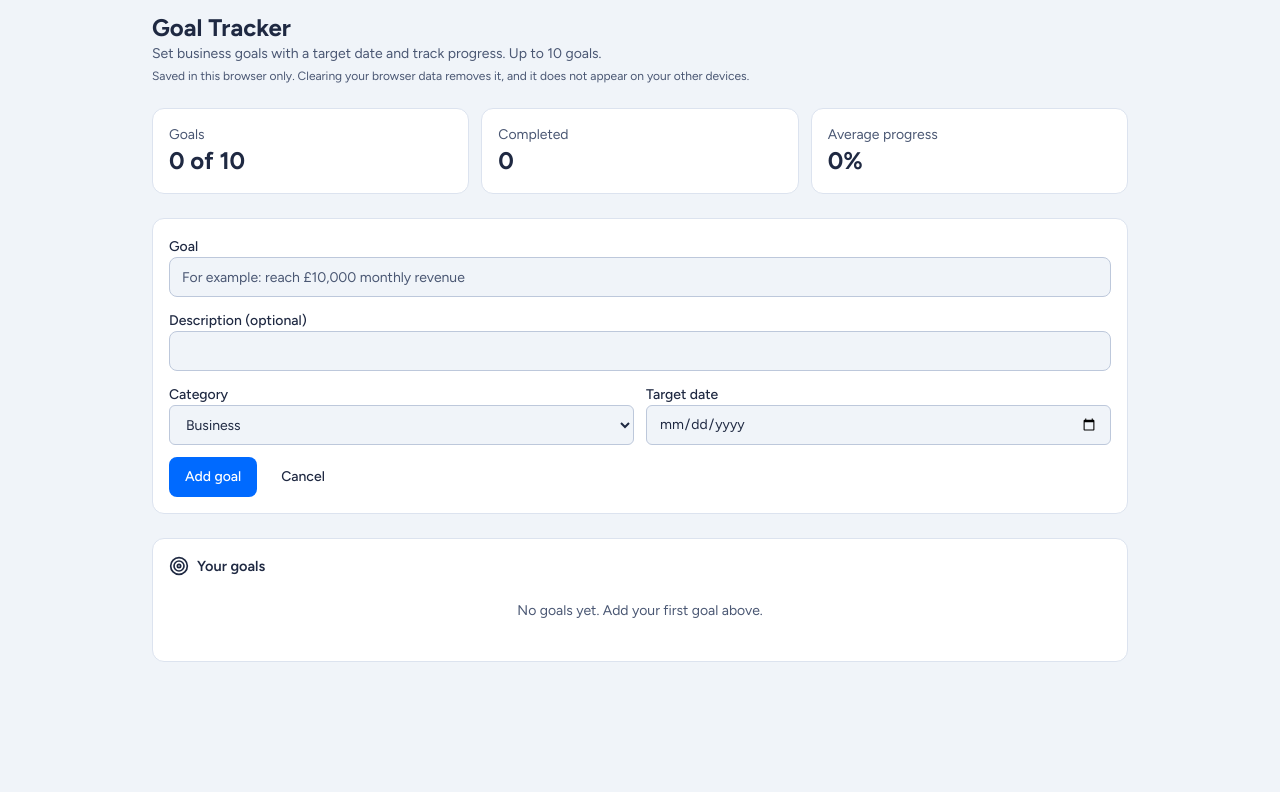
signed out: prompts at the moment of value, never a wall › Goal Tracker: no prompt before use; after the first real edit a dismissible "keep on all your devices" card
Earlier steps of the test are not shown.
Later steps or results of the test are not shown.
Type "Open a shop" into the field labelled "Goal" at (640, 277), box [169, 257, 1111, 297]
Type "2027-03-01" into the date field labelled "Target date" at (878, 425), box [646, 405, 1111, 445]
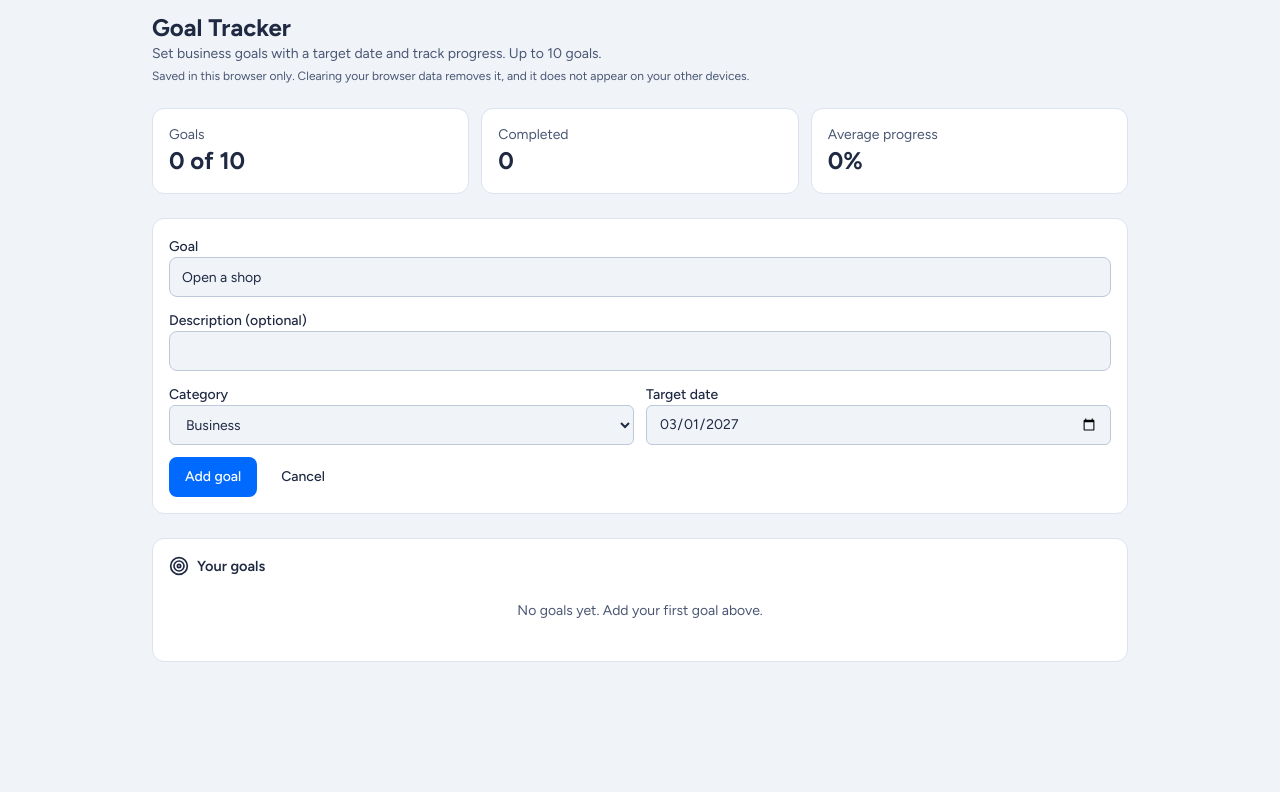
Submit the form named "Add a goal", box [152, 218, 1128, 514]
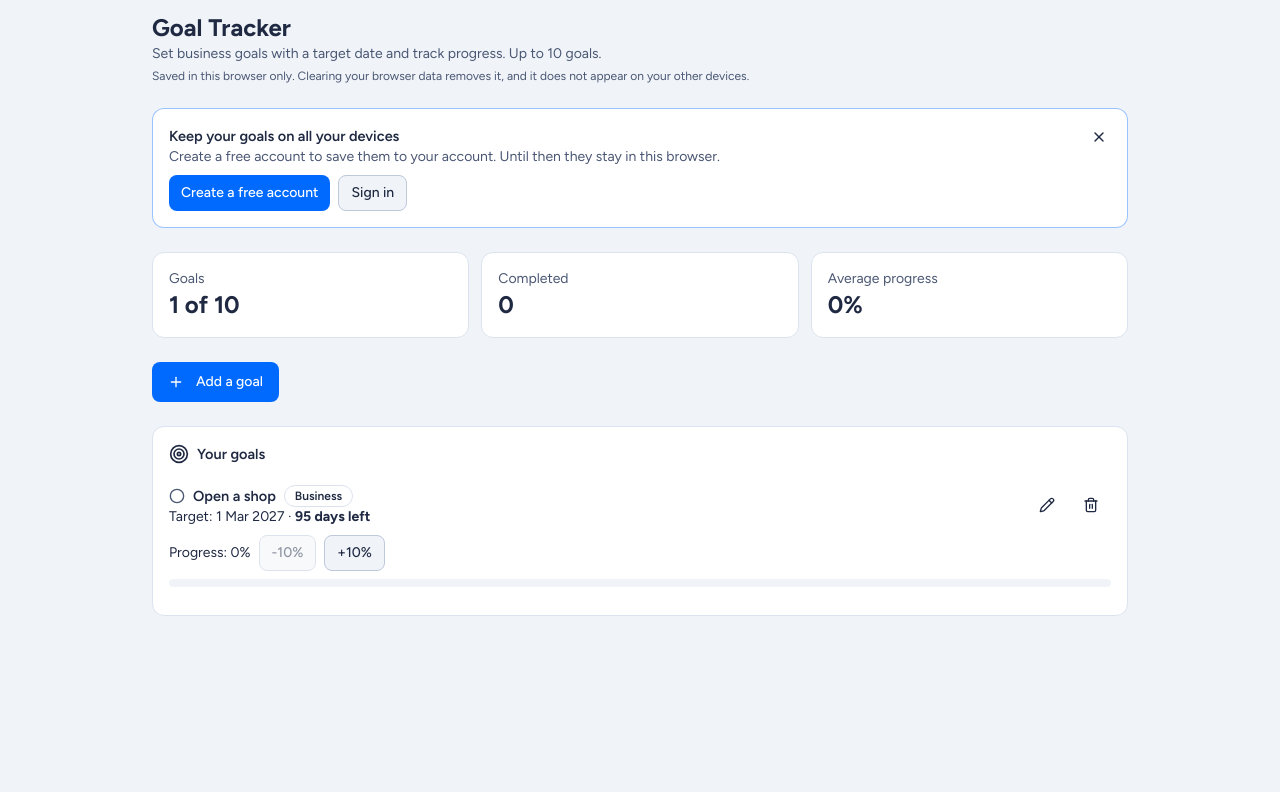
Expected: the element with test id "account-prompt" shows "Keep your goals on all your devices", [169, 127, 399, 145]
Click the button "Add a goal" at (215, 382), box [152, 362, 279, 402]
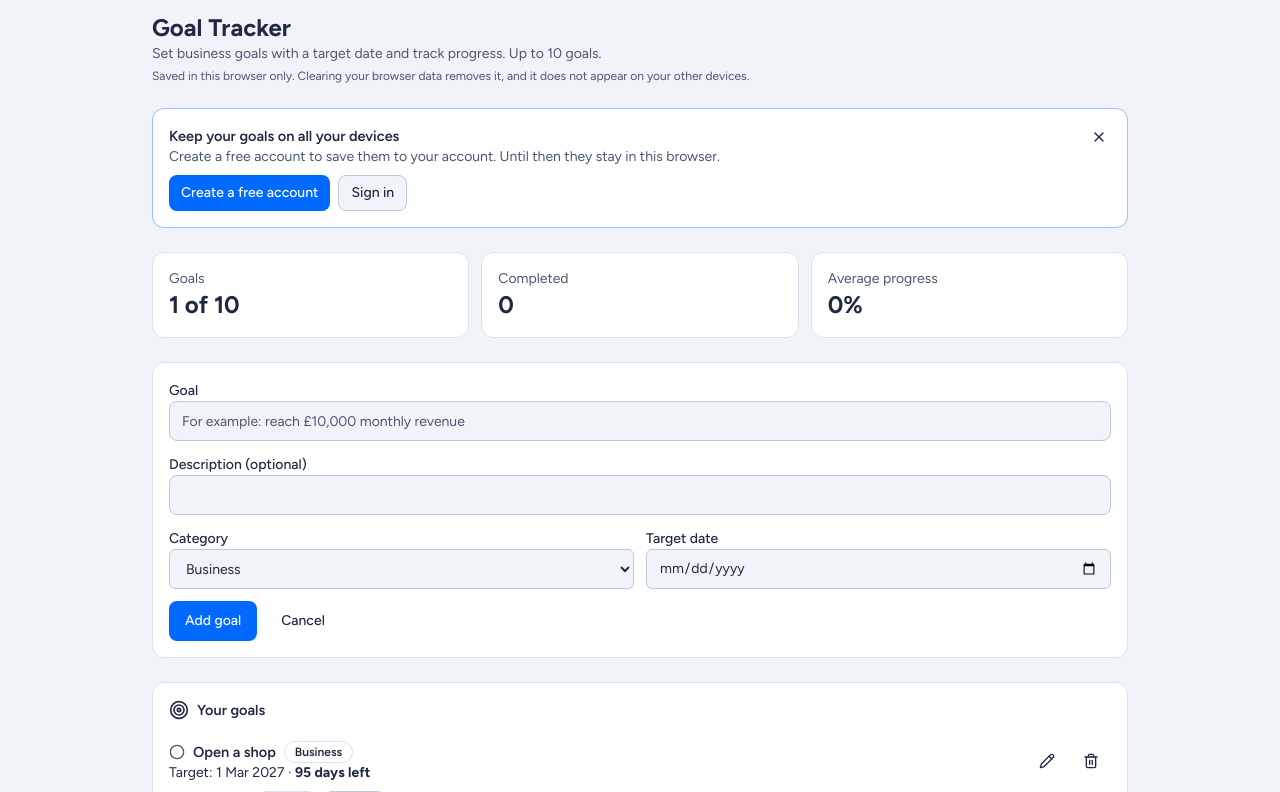
Type "Second goal" into the field labelled "Goal" at (640, 421), box [169, 401, 1111, 441]
Type "2027-03-01" into the date field labelled "Target date" at (878, 569), box [646, 549, 1111, 589]
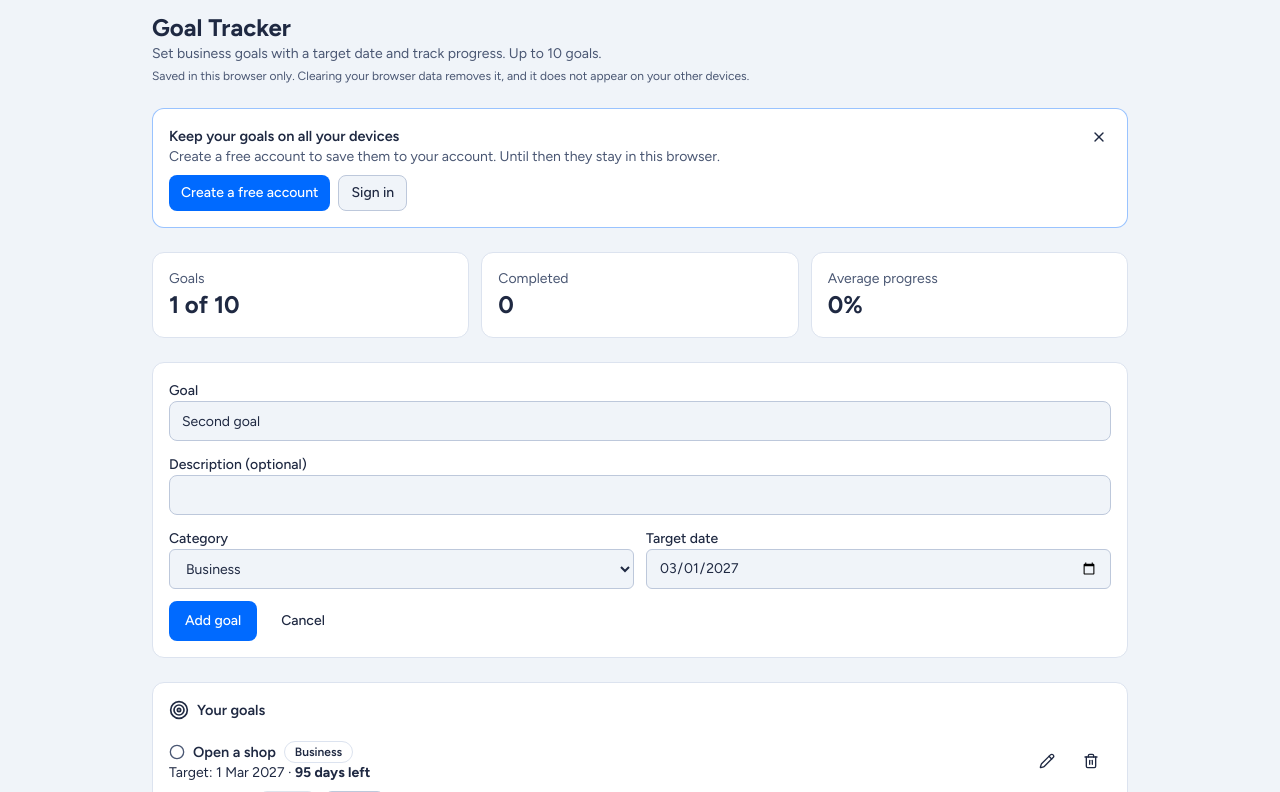
Submit the form named "Add a goal", box [152, 362, 1128, 658]
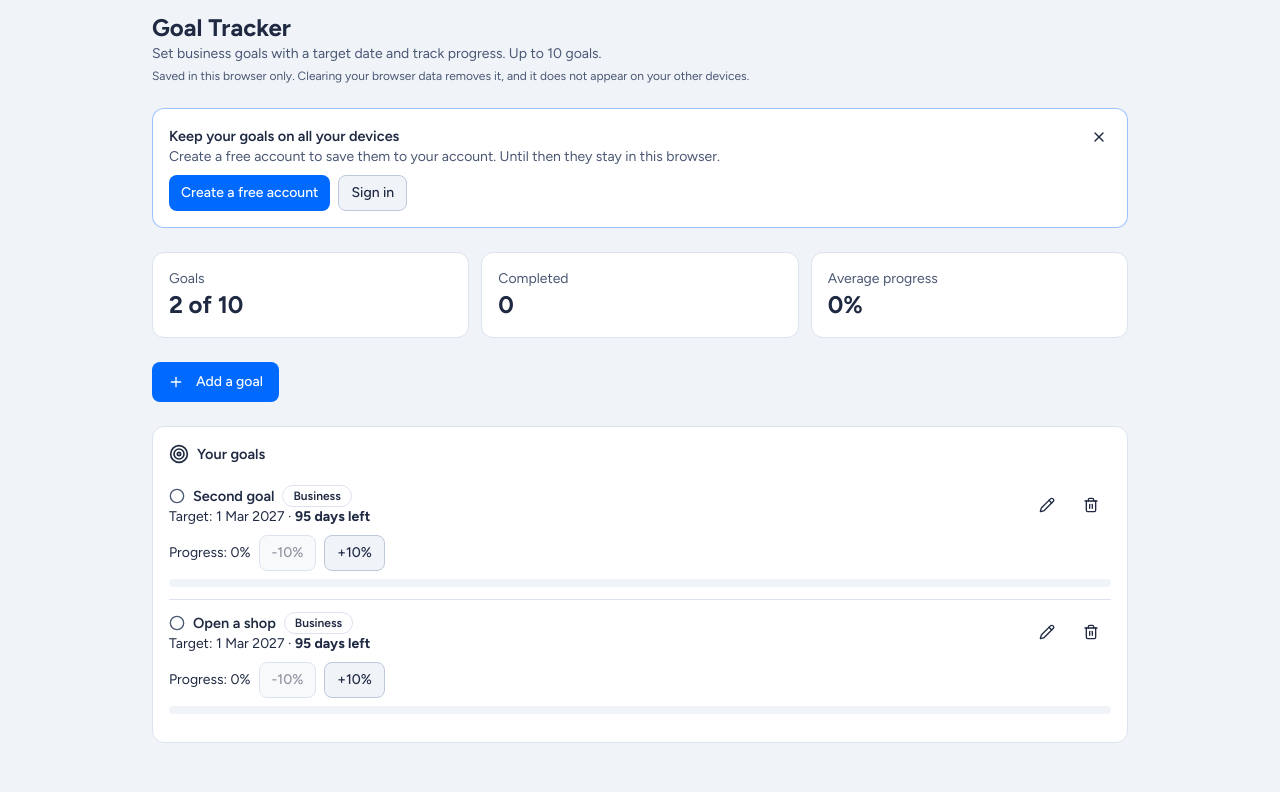
Expected: the number of list items with test id "goal" is 2, [169, 473, 1111, 599]; [169, 599, 1111, 726]
Click the button named "Not now" at (1099, 137), box [1083, 121, 1115, 153]
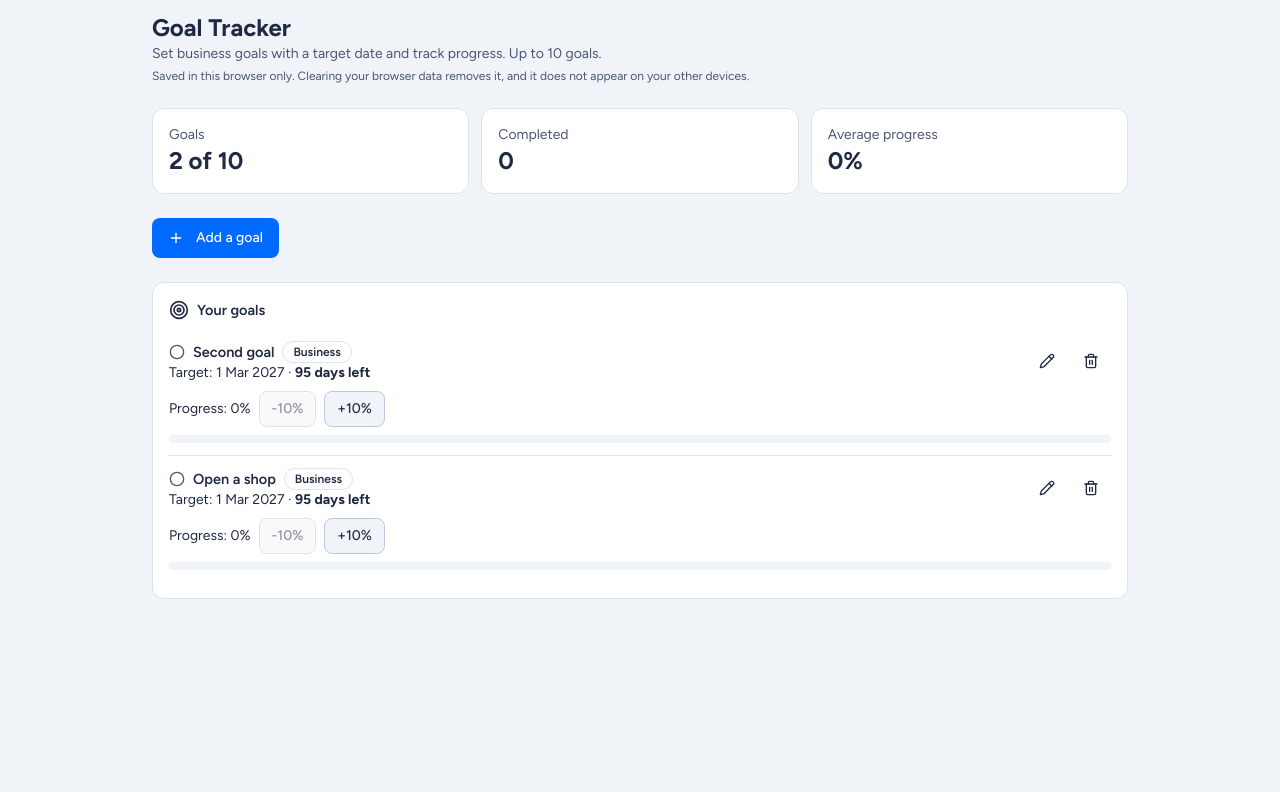
Expected: the element with test id "account-prompt" is gone
